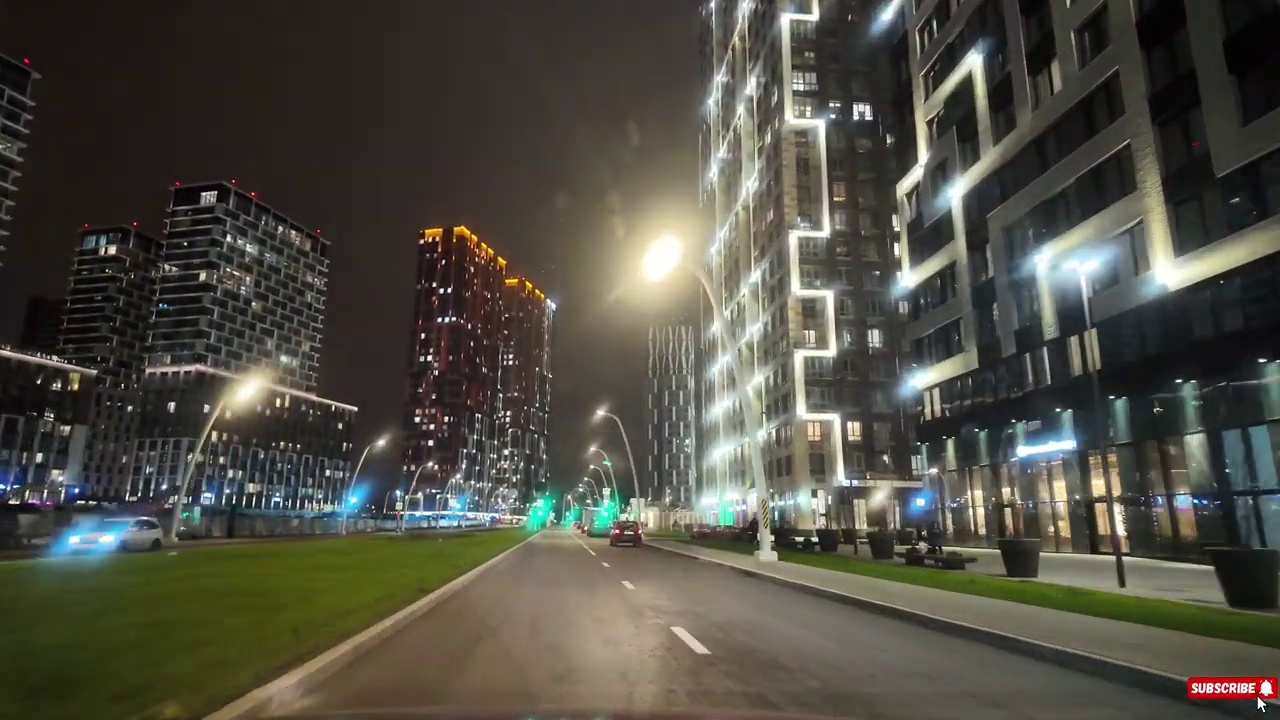acesa: (633, 226, 695, 289), (219, 372, 273, 420), (584, 401, 613, 431)
